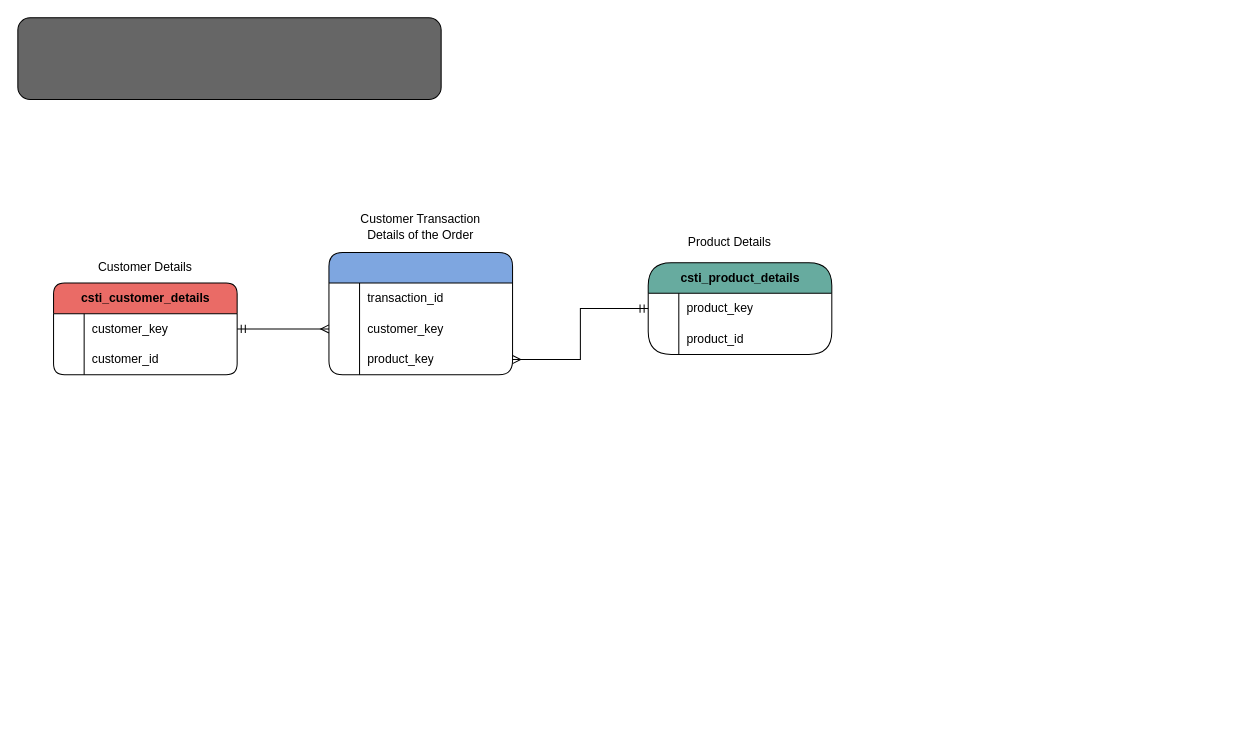
The diagram is 1245 pixels wide and 745 high, and some of its shapes have lost their labels. The shapes that lost their labels are listed below. From the top down, each one's box as (x1, y1, x2, y2) in pixels, then its label:
(17, 17, 441, 99): Data Model
(328, 251, 513, 375): csti_transaction_details
